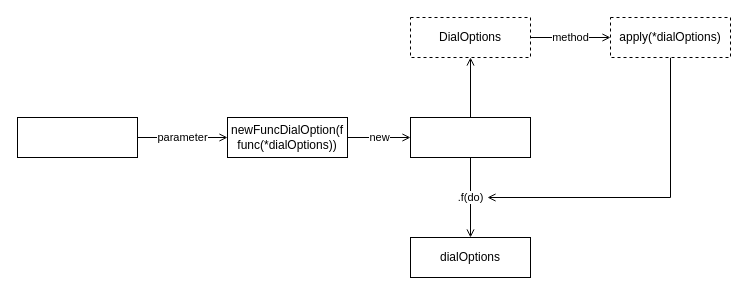
Image size: 748x295. Some labels were removed from this diagram. Here are the shapes that lost their labels. From the top down, the centre of each, then its label:
the point at 77,137: f func(*dialOptions)
the point at 470,137: funcDialOption
